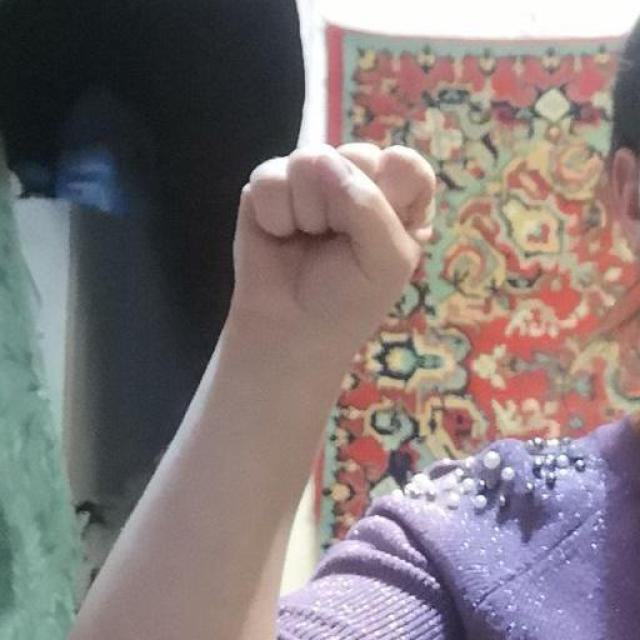hand: (225, 138, 436, 362)
